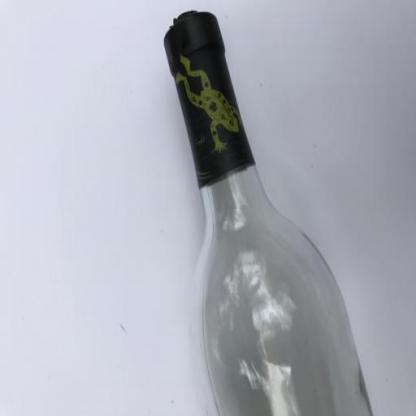trash: (162, 10, 373, 415)
